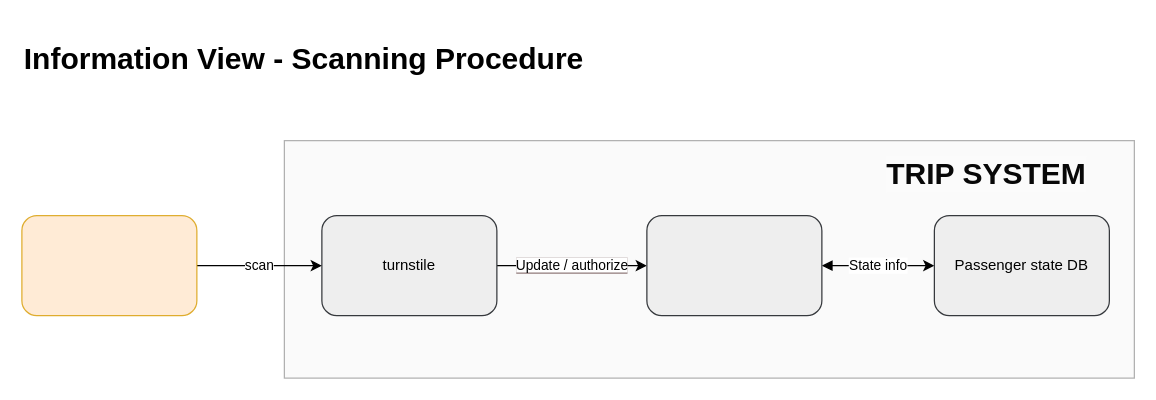
Image size: 1156x400. Some labels were removed from this diagram. The shapes that lost their labels are listed below. From the top down, each one's centre as x and y in pixels, then its label:
the point at 109,265: Passenger
the point at 734,265: Passenger state
